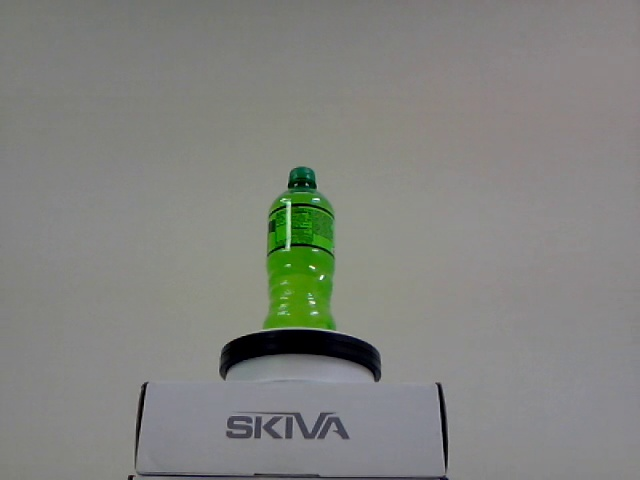botolplastik: (266, 167, 335, 329)
